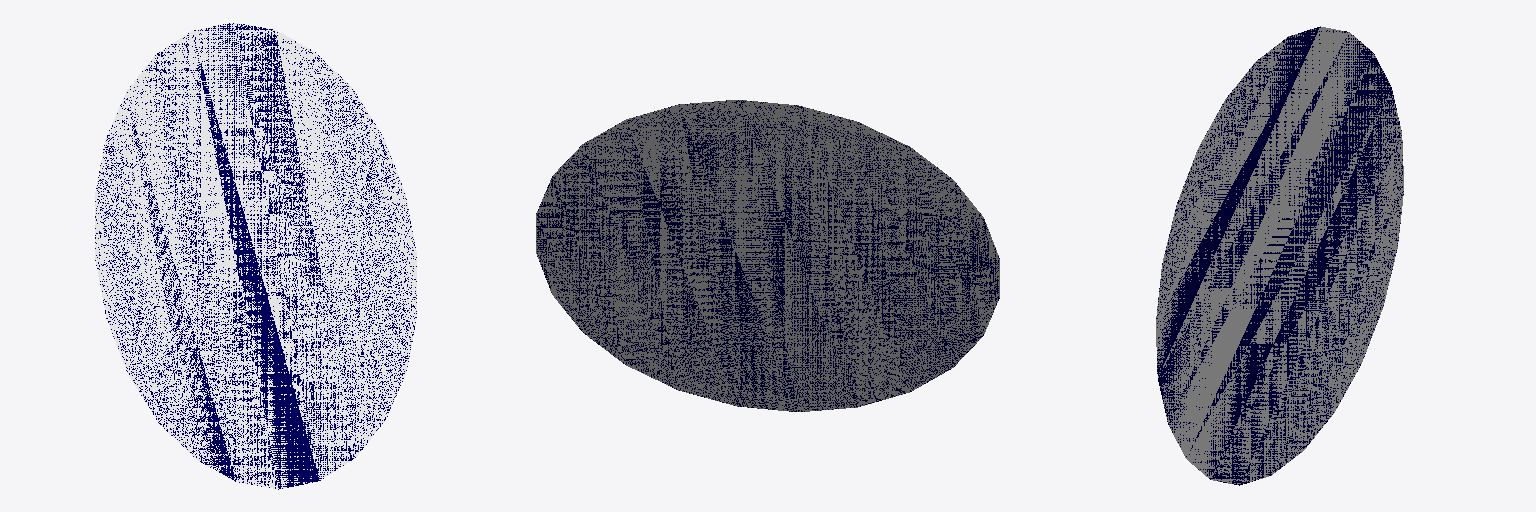
Rendered from original-124.obj.
The picture shows the model from 3 angles: view 1: azimuth 30°, elevation 25°; view 2: azimuth 150°, elevation 25°; view 3: azimuth 270°, elevation 25°; orthographic projection.
Parts seen in each view (by area): view 1: 3dw.47c68395a5775e10d9deb3f829cc2475/Model/Component_18_1/Compon; view 2: 3dw.47c68395a5775e10d9deb3f829cc2475/Model/Component_18_1/Compon; view 3: 3dw.47c68395a5775e10d9deb3f829cc2475/Model/Component_18_1/Compon.
Part boxes in pixels (x1,y1,x2,y2): 3dw.47c68395a5775e10d9deb3f829cc2475/Model/Component_18_1/Compon: (94, 22, 417, 489); 3dw.47c68395a5775e10d9deb3f829cc2475/Model/Component_18_1/Compon: (536, 100, 999, 411); 3dw.47c68395a5775e10d9deb3f829cc2475/Model/Component_18_1/Compon: (1156, 26, 1403, 485).
Bounding box in the file's own units: 0.0054 × 0.0053 × 0.0031.